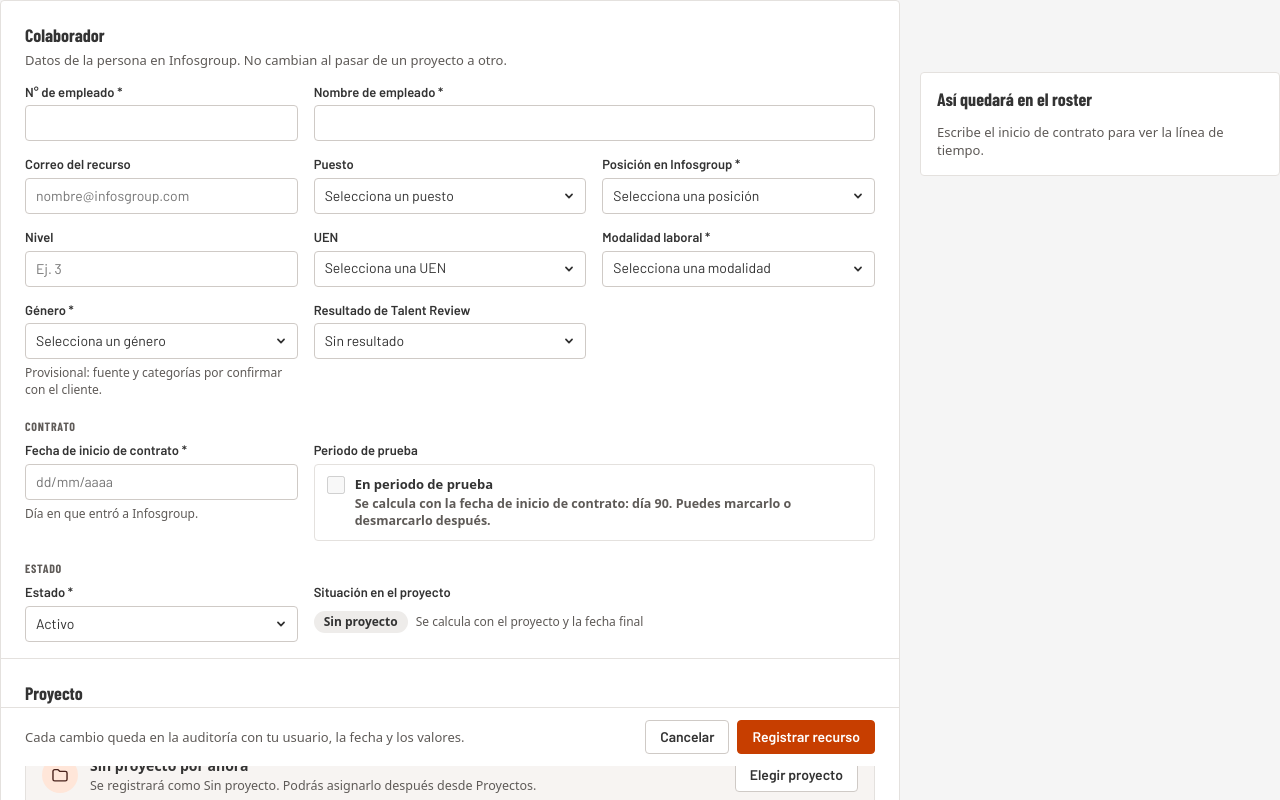
Test: RegisterResourceForm › neither links nor opens the modal when the existing id is a text
Type "1045" into the field labelled "N° de empleado *". click: (161,123)
box: [25,105,298,141]
Type "Valentina Ruiz" into the field labelled "Nombre de empleado *". click: (594,123)
box: [314,105,875,141]
Select "Analista" in the dropdown labelled "Posición en Infosgroup *". click: (739,196)
box: [602,178,875,214]
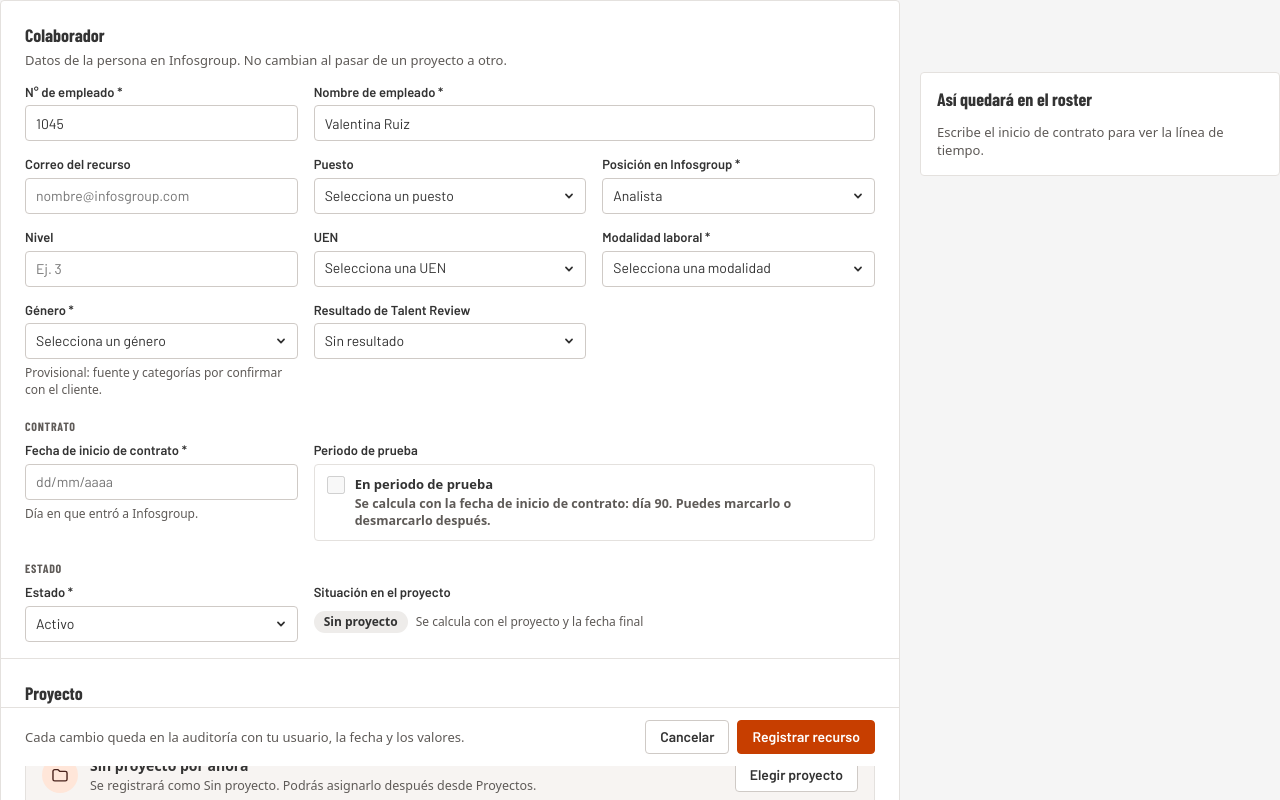
Select "Remoto" in the dropdown labelled "Modalidad laboral *". click: (739,269)
box: [602,251,875,287]
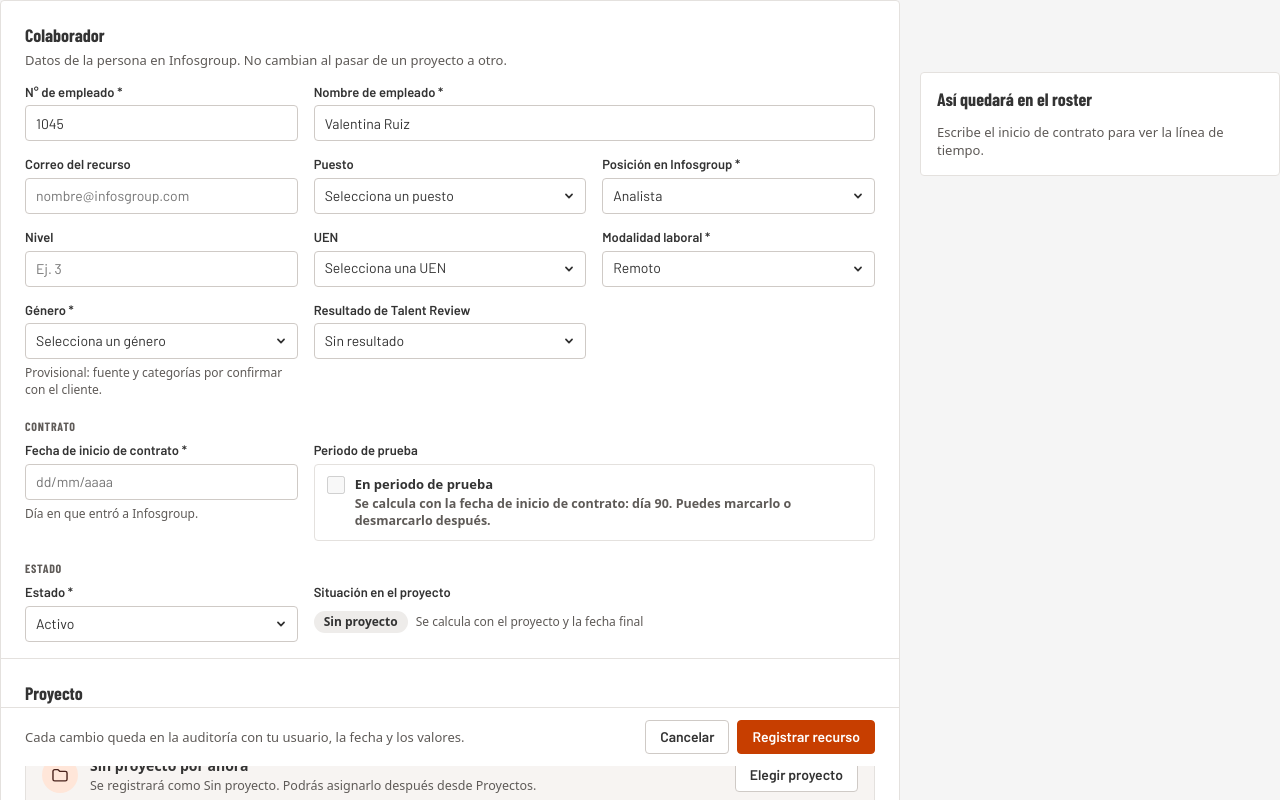
Select "Femenino" in the dropdown labelled "Género *". click: (161,341)
box: [25,323,298,359]
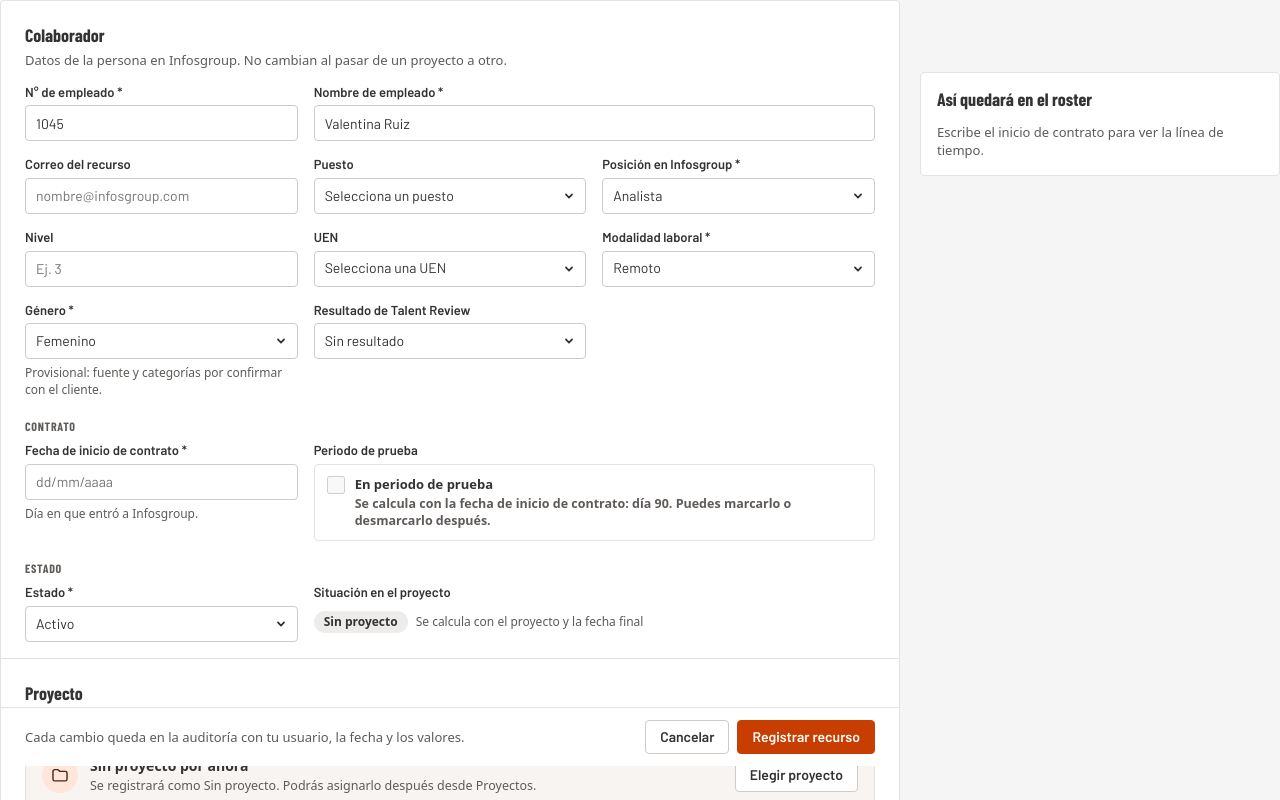
Type "3" into the field labelled "Nivel". click: (161,269)
box: [25,251,298,287]
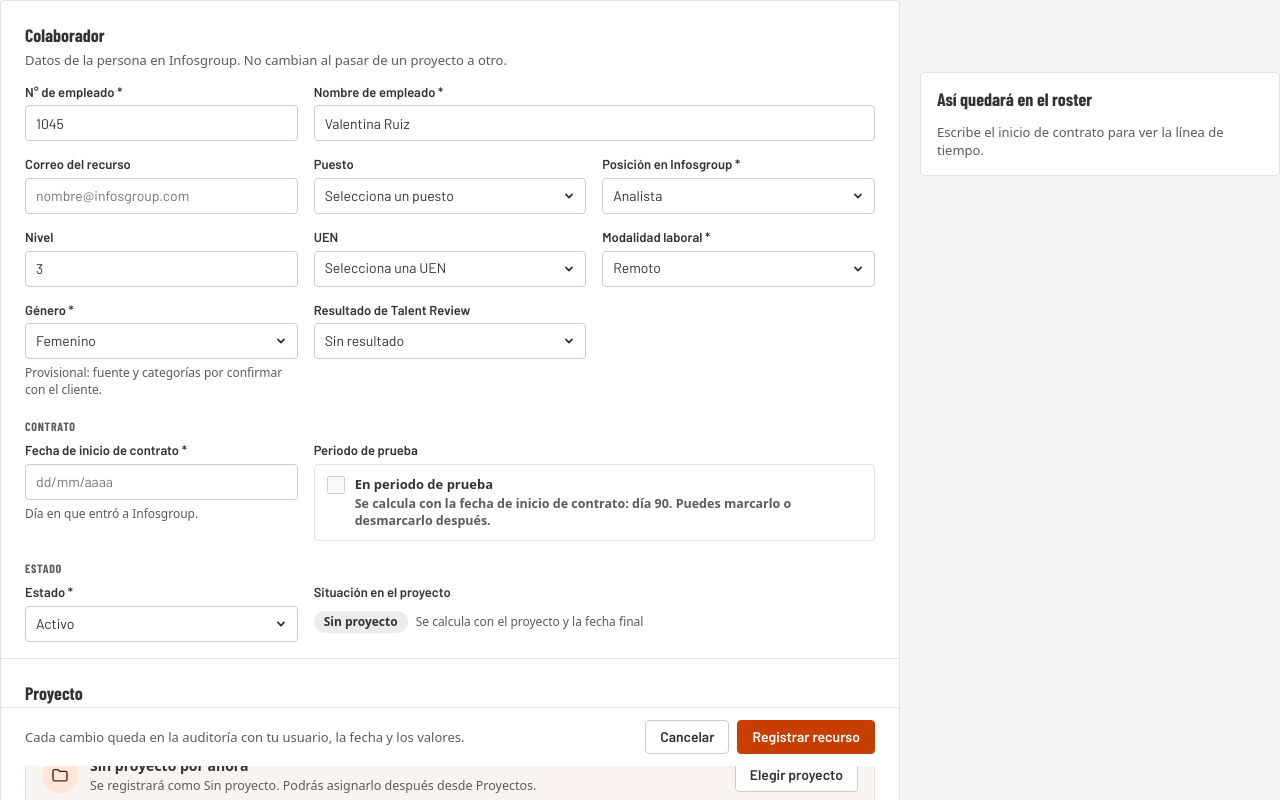
Type "20102026" into the field labelled "Fecha de inicio de contrato *". click: (161,482)
box: [25,464,298,500]
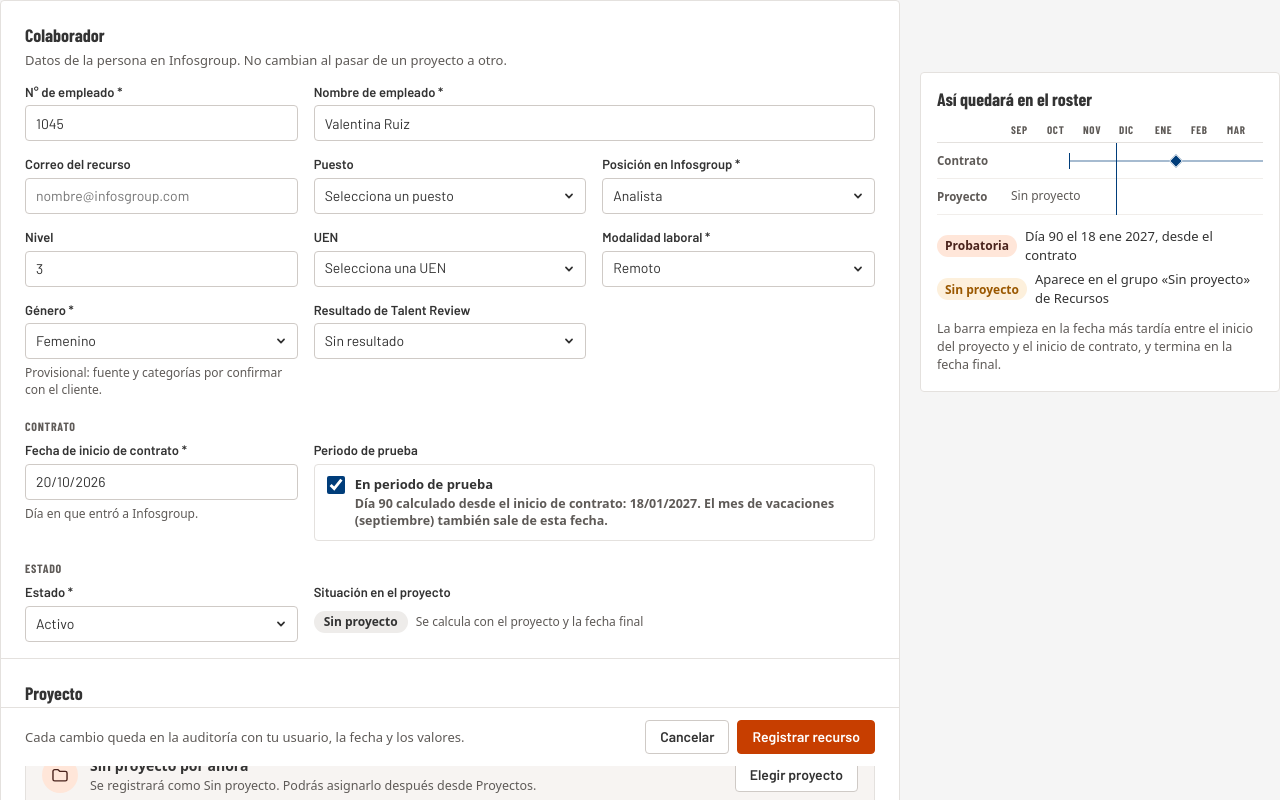
Click the button "Registrar recurso". click: (806,737)
box: [737,720,875,754]
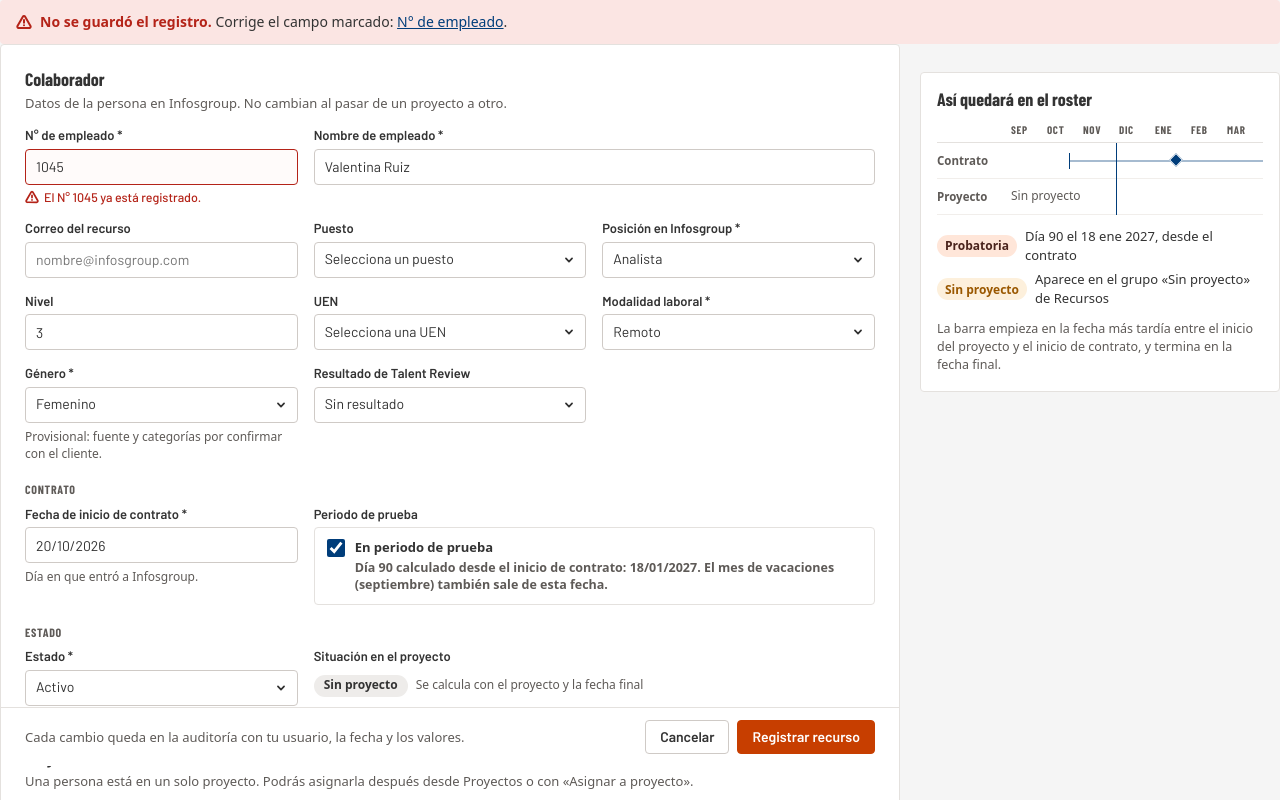
Expected: the text "El N° 1045 ya está registrado." is shown, [44,190,201,205]
